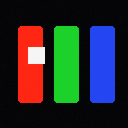1 square: (28, 47, 44, 63)
